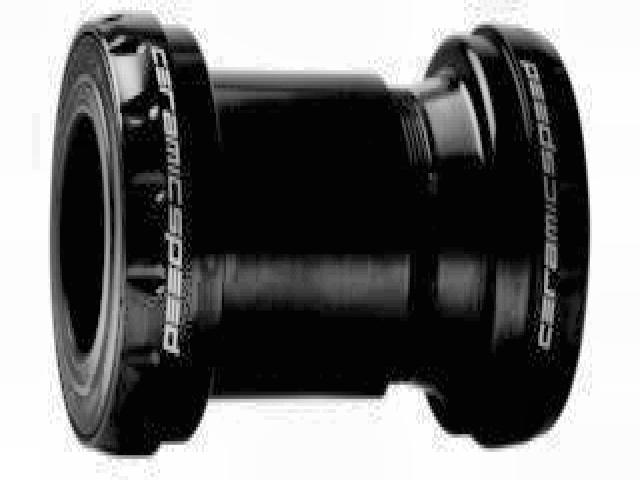bottom_bracket: (49, 7, 592, 460)
